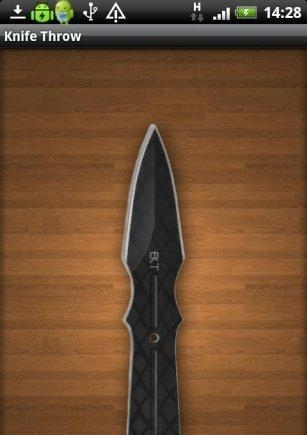knief: (103, 117, 221, 430)
